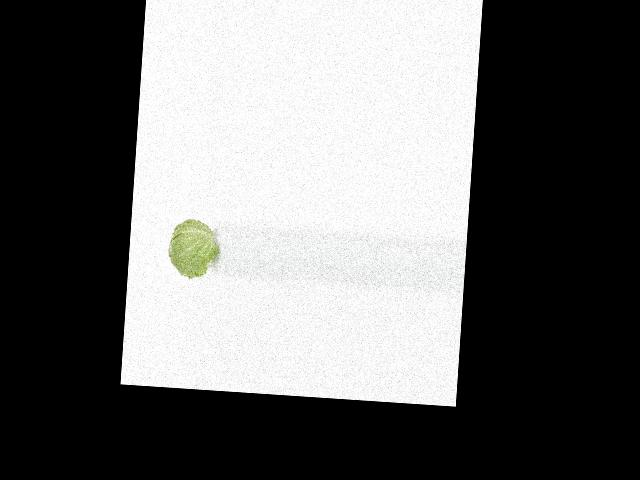lettuce: (165, 213, 215, 281)
